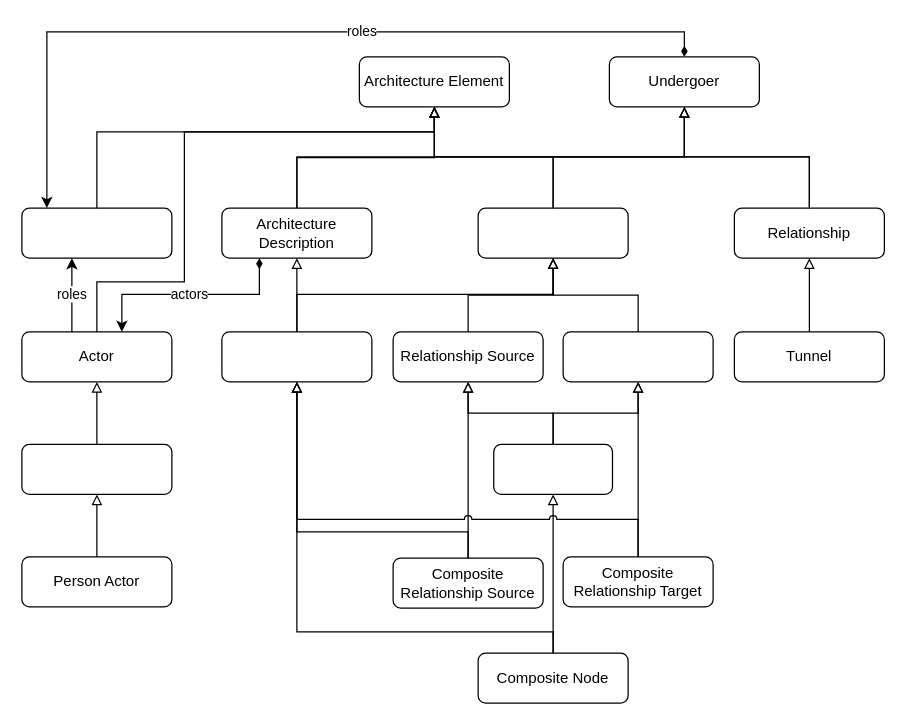
Some shapes in this 906 by 725 pixel diagram are drawn without their labels. The shapes that lost their labels are listed below. From the top down, each one's box as (x1, y1, x2, y2) in pixels, then its label:
(21, 207, 172, 258): Role
(477, 207, 628, 258): Architecture Description Element
(221, 331, 372, 382): Domain
(562, 331, 713, 382): Relationship Target
(21, 443, 172, 494): Party Actor
(492, 443, 612, 494): Node
